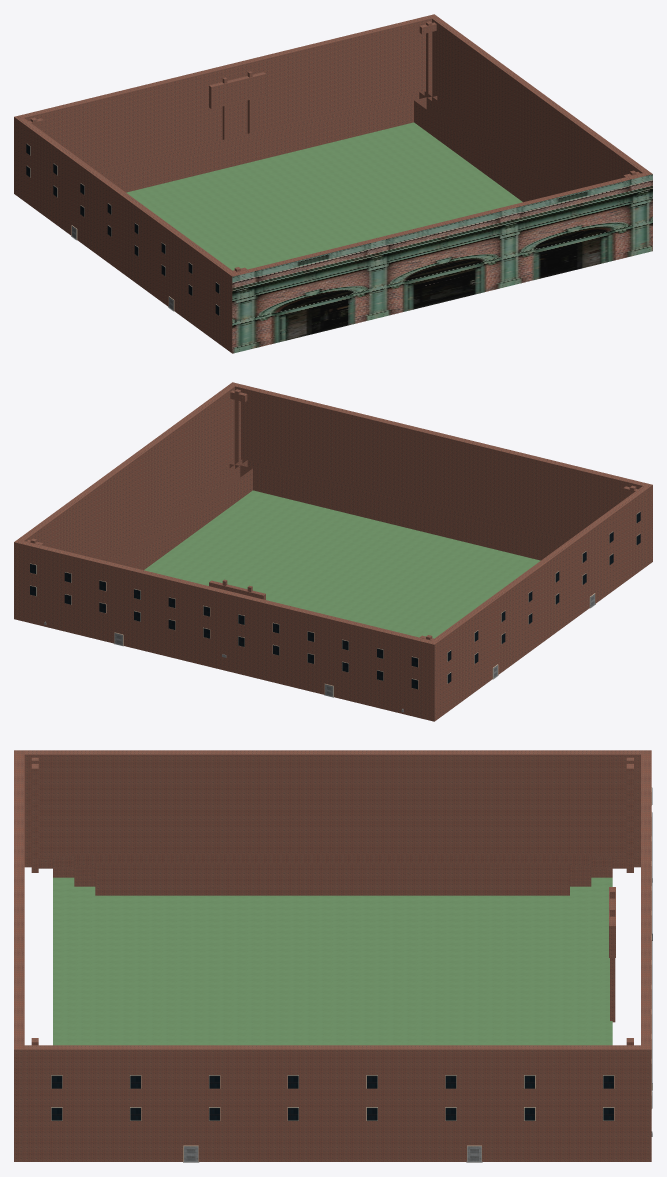
File: ironport-ballpark_lod0.gltf
The picture shows the model from 3 angles, top to bottom: view 1: azimuth 30°, elevation 25°; view 2: azimuth 150°, elevation 25°; view 3: azimuth 270°, elevation 25°; orthographic projection. The views are drawn at different scales.
Parts seen in each view (by area): view 1: ironport-ballpark_walls, ironport-ballpark_front, ironport-ballpark_field, ironport-ballpark_bowl, ironport-ballpark_wall_front, ironport-ballpark__scoreboard, ironport-ballpark__light_towers, ironport-ballpark_fen_07-glass-curtain-blue_5_t; view 2: ironport-ballpark_walls, ironport-ballpark_field, ironport-ballpark_wall_front, ironport-ballpark_bowl, ironport-ballpark_fen_07-glass-curtain-blue_5_t, ironport-ballpark_fen_04-limestone_0, ironport-ballpark__light_towers; view 3: ironport-ballpark_walls, ironport-ballpark_field, ironport-ballpark_bowl, ironport-ballpark_wall_front, ironport-ballpark_fen_07-glass-curtain-blue_5_t, ironport-ballpark__light_towers, ironport-ballpark_fen_04-limestone_0, ironport-ballpark__scoreboard.
Boxes of the visible parts, x1,y1,x2,y2 form: ironport-ballpark_walls: [14, 14, 648, 350]; ironport-ballpark_front: [232, 174, 652, 353]; ironport-ballpark_field: [126, 122, 522, 270]; ironport-ballpark_bowl: [96, 91, 567, 202]; ironport-ballpark_wall_front: [229, 171, 652, 353]; ironport-ballpark__scoreboard: [209, 71, 265, 139]; ironport-ballpark__light_towers: [29, 21, 640, 272]; ironport-ballpark_fen_07-glass-curtain-blue_5_t: [26, 144, 219, 315]; ironport-ballpark_walls: [14, 385, 649, 721]; ironport-ballpark_field: [144, 490, 540, 638]; ironport-ballpark_wall_front: [229, 382, 652, 563]; ironport-ballpark_bowl: [99, 459, 570, 570]; ironport-ballpark_fen_07-glass-curtain-blue_5_t: [30, 512, 640, 689]; ironport-ballpark_fen_04-limestone_0: [30, 512, 639, 696]; ironport-ballpark__light_towers: [26, 389, 637, 640]; ironport-ballpark_walls: [24, 750, 651, 1161]; ironport-ballpark_field: [53, 877, 612, 1045]; ironport-ballpark_bowl: [38, 854, 626, 895]; ironport-ballpark_wall_front: [14, 750, 24, 1161]; ironport-ballpark_fen_07-glass-curtain-blue_5_t: [51, 788, 652, 1120]; ironport-ballpark__light_towers: [31, 757, 633, 1045]; ironport-ballpark_fen_04-limestone_0: [51, 787, 652, 1161]; ironport-ballpark__scoreboard: [609, 887, 615, 1022].
Bounding box in the file's own units: 201 × 35.02 × 180.
